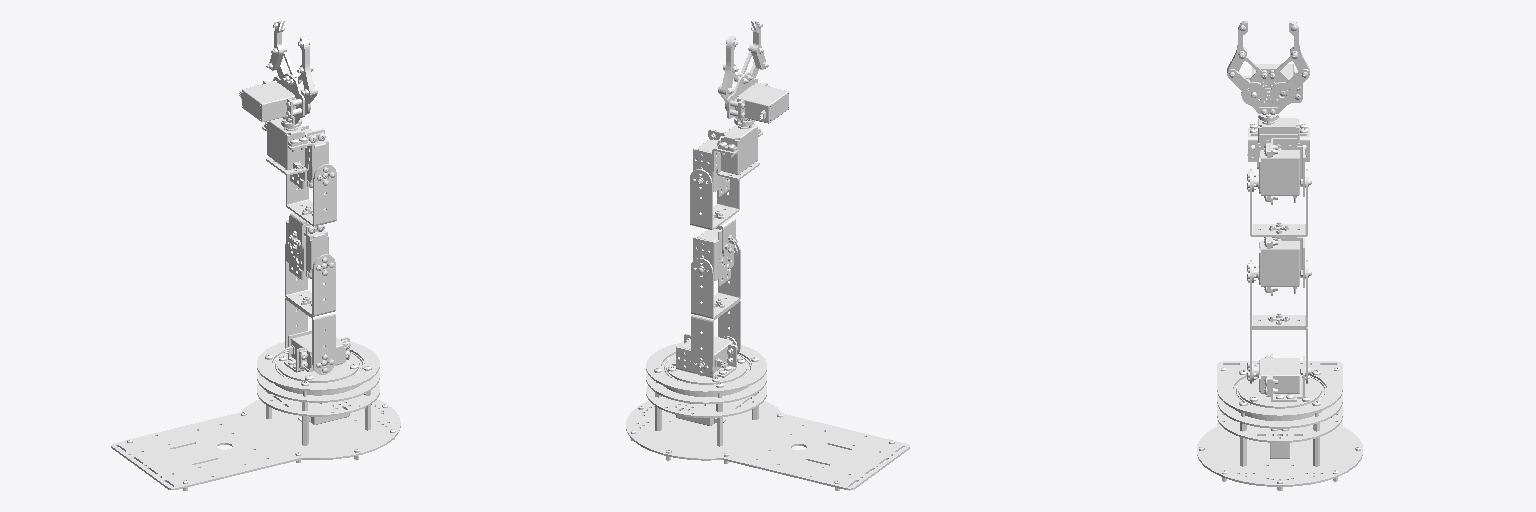
The robot description file, URDF, robot "six_dof_arm":
<?xml version="1.0" encoding="utf-8"?>
<!-- This URDF was automatically created by SolidWorks to URDF Exporter! Originally created by [author] ([email redacted]) 
     Commit Version: 1.6.0-4-g7f85cfe  Build Version: 1.6.7995.38578
     For more information, please see http://wiki.ros.org/sw_urdf_exporter -->
<robot
  name="six_dof_arm">
  <link
    name="base_link">
    <inertial>
      <origin
        xyz="0.0363930242591976 6.45201149451768E-11 0.0260666027755772"
        rpy="0 0 0" />
      <mass
        value="0.176240055489149" />
      <inertia
        ixx="0.000178228991855255"
        ixy="-8.54118248814573E-13"
        ixz="2.03518572522745E-09"
        iyy="0.000490358793756337"
        iyz="-7.80302776386442E-16"
        izz="0.000658509890835833" />
    </inertial>
    <visual>
      <origin
        xyz="0 0 0"
        rpy="0 0 0" />
      <geometry>
        <mesh
          filename="package://six_dof_arm/meshes/base_link.STL" />
      </geometry>
      <material
        name="">
        <color
          rgba="1 1 1 1" />
      </material>
    </visual>
    <collision>
      <origin
        xyz="0 0 0"
        rpy="0 0 0" />
      <geometry>
        <mesh
          filename="package://six_dof_arm/meshes/base_link.STL" />
      </geometry>
    </collision>
  </link>
  <link
    name="link_1">
    <inertial>
      <origin
        xyz="0.000332594811598422 0.0194522121021043 0.000100872463120016"
        rpy="0 0 0" />
      <mass
        value="0.0618861156624882" />
      <inertia
        ixx="1.54575361778533E-05"
        ixy="-1.52385222766237E-07"
        ixz="-2.04021429533956E-09"
        iyy="2.69387950646279E-05"
        iyz="-3.31430371573665E-13"
        izz="1.43966345039867E-05" />
    </inertial>
    <visual>
      <origin
        xyz="0 0 0"
        rpy="0 0 0" />
      <geometry>
        <mesh
          filename="package://six_dof_arm/meshes/link_1.STL" />
      </geometry>
      <material
        name="">
        <color
          rgba="1 1 1 1" />
      </material>
    </visual>
    <collision>
      <origin
        xyz="0 0 0"
        rpy="0 0 0" />
      <geometry>
        <mesh
          filename="package://six_dof_arm/meshes/link_1.STL" />
      </geometry>
    </collision>
  </link>
  <joint
    name="joint_1"
    type="revolute">
    <origin
      xyz="0.0575229584695751 0 0.052"
      rpy="1.5707963267949 0 1.5707963267949" />
    <parent
      link="base_link" />
    <child
      link="link_1" />
    <axis
      xyz="0 1 0" />
    <limit
      lower="-2.355"
      upper="2.355"
      effort="20"
      velocity="3" />
  </joint>
  <link
    name="link_2">
    <inertial>
      <origin
        xyz="-0.0193159251698881 -0.0475283878907469 -9.61111291741812E-06"
        rpy="0 0 0" />
      <mass
        value="0.0184057236168136" />
      <inertia
        ixx="7.20178640545149E-06"
        ixy="-3.04702107406275E-17"
        ixz="1.34498156137871E-14"
        iyy="1.03303809898291E-05"
        iyz="-8.36377985456854E-15"
        izz="1.5763028604721E-05" />
    </inertial>
    <visual>
      <origin
        xyz="0 0 0"
        rpy="0 0 0" />
      <geometry>
        <mesh
          filename="package://six_dof_arm/meshes/link_2.STL" />
      </geometry>
      <material
        name="">
        <color
          rgba="1 1 1 1" />
      </material>
    </visual>
    <collision>
      <origin
        xyz="0 0 0"
        rpy="0 0 0" />
      <geometry>
        <mesh
          filename="package://six_dof_arm/meshes/link_2.STL" />
      </geometry>
    </collision>
  </link>
  <joint
    name="joint_2"
    type="revolute">
    <origin
      xyz="-0.0214999999999866 0.028 -0.00965500000003039"
      rpy="0 0 3.14159265358979" />
    <parent
      link="link_1" />
    <child
      link="link_2" />
    <axis
      xyz="1 0 0" />
    <limit
      lower="-0.785"
      upper="1.57"
      effort="20"
      velocity="3" />
  </joint>
  <link
    name="link_3">
    <inertial>
      <origin
        xyz="0.0196383906944473 -0.0199179094137117 0.00130981188024093"
        rpy="0 0 0" />
      <mass
        value="0.0523337661318821" />
      <inertia
        ixx="1.16148697768604E-05"
        ixy="2.03518716392041E-09"
        ixz="1.52385235585513E-07"
        iyy="1.19296859715342E-05"
        iyz="-1.29156199881211E-07"
        izz="1.95443032903135E-05" />
    </inertial>
    <visual>
      <origin
        xyz="0 0 0"
        rpy="0 0 0" />
      <geometry>
        <mesh
          filename="package://six_dof_arm/meshes/link_3.STL" />
      </geometry>
      <material
        name="">
        <color
          rgba="1 1 1 1" />
      </material>
    </visual>
    <collision>
      <origin
        xyz="0 0 0"
        rpy="0 0 0" />
      <geometry>
        <mesh
          filename="package://six_dof_arm/meshes/link_3.STL" />
      </geometry>
    </collision>
  </link>
  <joint
    name="joint_3"
    type="revolute">
    <origin
      xyz="-0.0015 -0.104 0"
      rpy="3.14159265358979 0 3.14159265358979" />
    <parent
      link="link_2" />
    <child
      link="link_3" />
    <axis
      xyz="-1 0 0" />
    <limit
      lower="-2.26"
      upper="2.26"
      effort="20"
      velocity="3" />
  </joint>
  <link
    name="link_4">
    <inertial>
      <origin
        xyz="0.0193216464510159 -0.019544728415196 0.0137233315050218"
        rpy="0 0 0" />
      <mass
        value="0.0796841231364609" />
      <inertia
        ixx="1.39934433716506E-05"
        ixy="-6.12052734039665E-15"
        ixz="1.52385486035105E-07"
        iyy="1.39805841712531E-05"
        iyz="-1.52385242496222E-07"
        izz="2.2419487949179E-05" />
    </inertial>
    <visual>
      <origin
        xyz="0 0 0"
        rpy="0 0 0" />
      <geometry>
        <mesh
          filename="package://six_dof_arm/meshes/link_4.STL" />
      </geometry>
      <material
        name="">
        <color
          rgba="1 1 1 1" />
      </material>
    </visual>
    <collision>
      <origin
        xyz="0 0 0"
        rpy="0 0 0" />
      <geometry>
        <mesh
          filename="package://six_dof_arm/meshes/link_4.STL" />
      </geometry>
    </collision>
  </link>
  <joint
    name="joint_4"
    type="revolute">
    <origin
      xyz="0 -0.096500000000001 -0.000999999999999918"
      rpy="0 0 0" />
    <parent
      link="link_3" />
    <child
      link="link_4" />
    <axis
      xyz="-1 0 0" />
    <limit
      lower="-2.26"
      upper="2.26"
      effort="20"
      velocity="3" />
  </joint>
  <link
    name="link_5">
    <inertial>
      <origin
        xyz="-0.0038309592097061 0.0306377695095478 0.0183832381514475"
        rpy="0 0 0" />
      <mass
        value="0.0391972501021704" />
      <inertia
        ixx="5.70809325891075E-06"
        ixy="7.60852230672704E-14"
        ixz="-3.33782858476785E-09"
        iyy="9.48081236664893E-06"
        iyz="-6.86615306245548E-16"
        izz="6.86600314509222E-06" />
    </inertial>
    <visual>
      <origin
        xyz="0 0 0"
        rpy="0 0 0" />
      <geometry>
        <mesh
          filename="package://six_dof_arm/meshes/link_5.STL" />
      </geometry>
      <material
        name="">
        <color
          rgba="1 1 1 1" />
      </material>
    </visual>
    <collision>
      <origin
        xyz="0 0 0"
        rpy="0 0 0" />
      <geometry>
        <mesh
          filename="package://six_dof_arm/meshes/link_5.STL" />
      </geometry>
    </collision>
  </link>
  <joint
    name="joint_5"
    type="revolute">
    <origin
      xyz="0.00900000000003824 -0.0505000000000002 0.0279999999999875"
      rpy="0 0 3.14159265358979" />
    <parent
      link="link_4" />
    <child
      link="link_5" />
    <axis
      xyz="0 -1 0" />
    <limit
      lower="-2.26"
      upper="2.26"
      effort="20"
      velocity="3" />
  </joint>
  <link
    name="link_6">
    <inertial>
      <origin
        xyz="0.0143298157298696 -0.0270465862962762 0.00580746643244909"
        rpy="0 0 0" />
      <mass
        value="0.0123483072583734" />
      <inertia
        ixx="1.88444685122979E-06"
        ixy="2.93149754663778E-09"
        ixz="5.87996411730137E-10"
        iyy="6.19405409572236E-07"
        iyz="-3.29778329044848E-12"
        izz="2.40711260076694E-06" />
    </inertial>
    <visual>
      <origin
        xyz="0 0 0"
        rpy="0 0 0" />
      <geometry>
        <mesh
          filename="package://six_dof_arm/meshes/link_6.STL" />
      </geometry>
      <material
        name="">
        <color
          rgba="1 1 1 1" />
      </material>
    </visual>
    <collision>
      <origin
        xyz="0 0 0"
        rpy="0 0 0" />
      <geometry>
        <mesh
          filename="package://six_dof_arm/meshes/link_6.STL" />
      </geometry>
    </collision>
  </link>
  <joint
    name="joint_6"
    type="revolute">
    <origin
      xyz="-0.0140033661195784 0.0319999999999998 0.00298424820030765"
      rpy="3.14159265358979 0 0" />
    <parent
      link="link_5" />
    <child
      link="link_6" />
    <axis
      xyz="0.00112499294844597 0 0.999999367195233" />
    <limit
      lower="-2.26"
      upper="2.26"
      effort="20"
      velocity="3" />
  </joint>
</robot>

--- Render facts (derived) ---
Views: 3 orthographic renders of the robot side by side, from view 1: azimuth 30°, elevation 25°; view 2: azimuth 150°, elevation 25°; view 3: azimuth 270°, elevation 25°.
Robot: six_dof_arm — 7 links, 6 joints (6 revolute); root link base_link; default pose: every joint at zero.
Visible links, largest first — view 1: base_link, link_3, link_2, link_4, link_5, link_1, link_6; view 2: base_link, link_2, link_3, link_4, link_5, link_1, link_6; view 3: base_link, link_4, link_3, link_1, link_6, link_2, link_5.
Link boxes in pixels (box(x1,y1,x2,y2)): base_link: box(111, 339, 400, 490); link_3: box(286, 164, 336, 279); link_2: box(285, 244, 335, 374); link_4: box(262, 118, 334, 188); link_5: box(239, 73, 304, 129); link_1: box(277, 329, 359, 382); link_6: box(266, 21, 317, 114); base_link: box(626, 342, 909, 490); link_2: box(691, 243, 740, 375); link_3: box(690, 169, 739, 285); link_4: box(693, 124, 762, 197); link_5: box(727, 72, 788, 127); link_1: box(666, 334, 746, 384); link_6: box(718, 21, 768, 110); base_link: box(1197, 361, 1362, 490); link_4: box(1247, 118, 1311, 204); link_3: box(1247, 169, 1311, 295); link_1: box(1238, 353, 1321, 408); link_6: box(1227, 21, 1309, 105); link_2: box(1247, 260, 1311, 383); link_5: box(1245, 64, 1302, 124).
Size in the robot's own frame: 0.28 by 0.1597 by 0.443 metres.
7 mesh visuals loaded from 7 distinct referenced files (7 binary STL).
